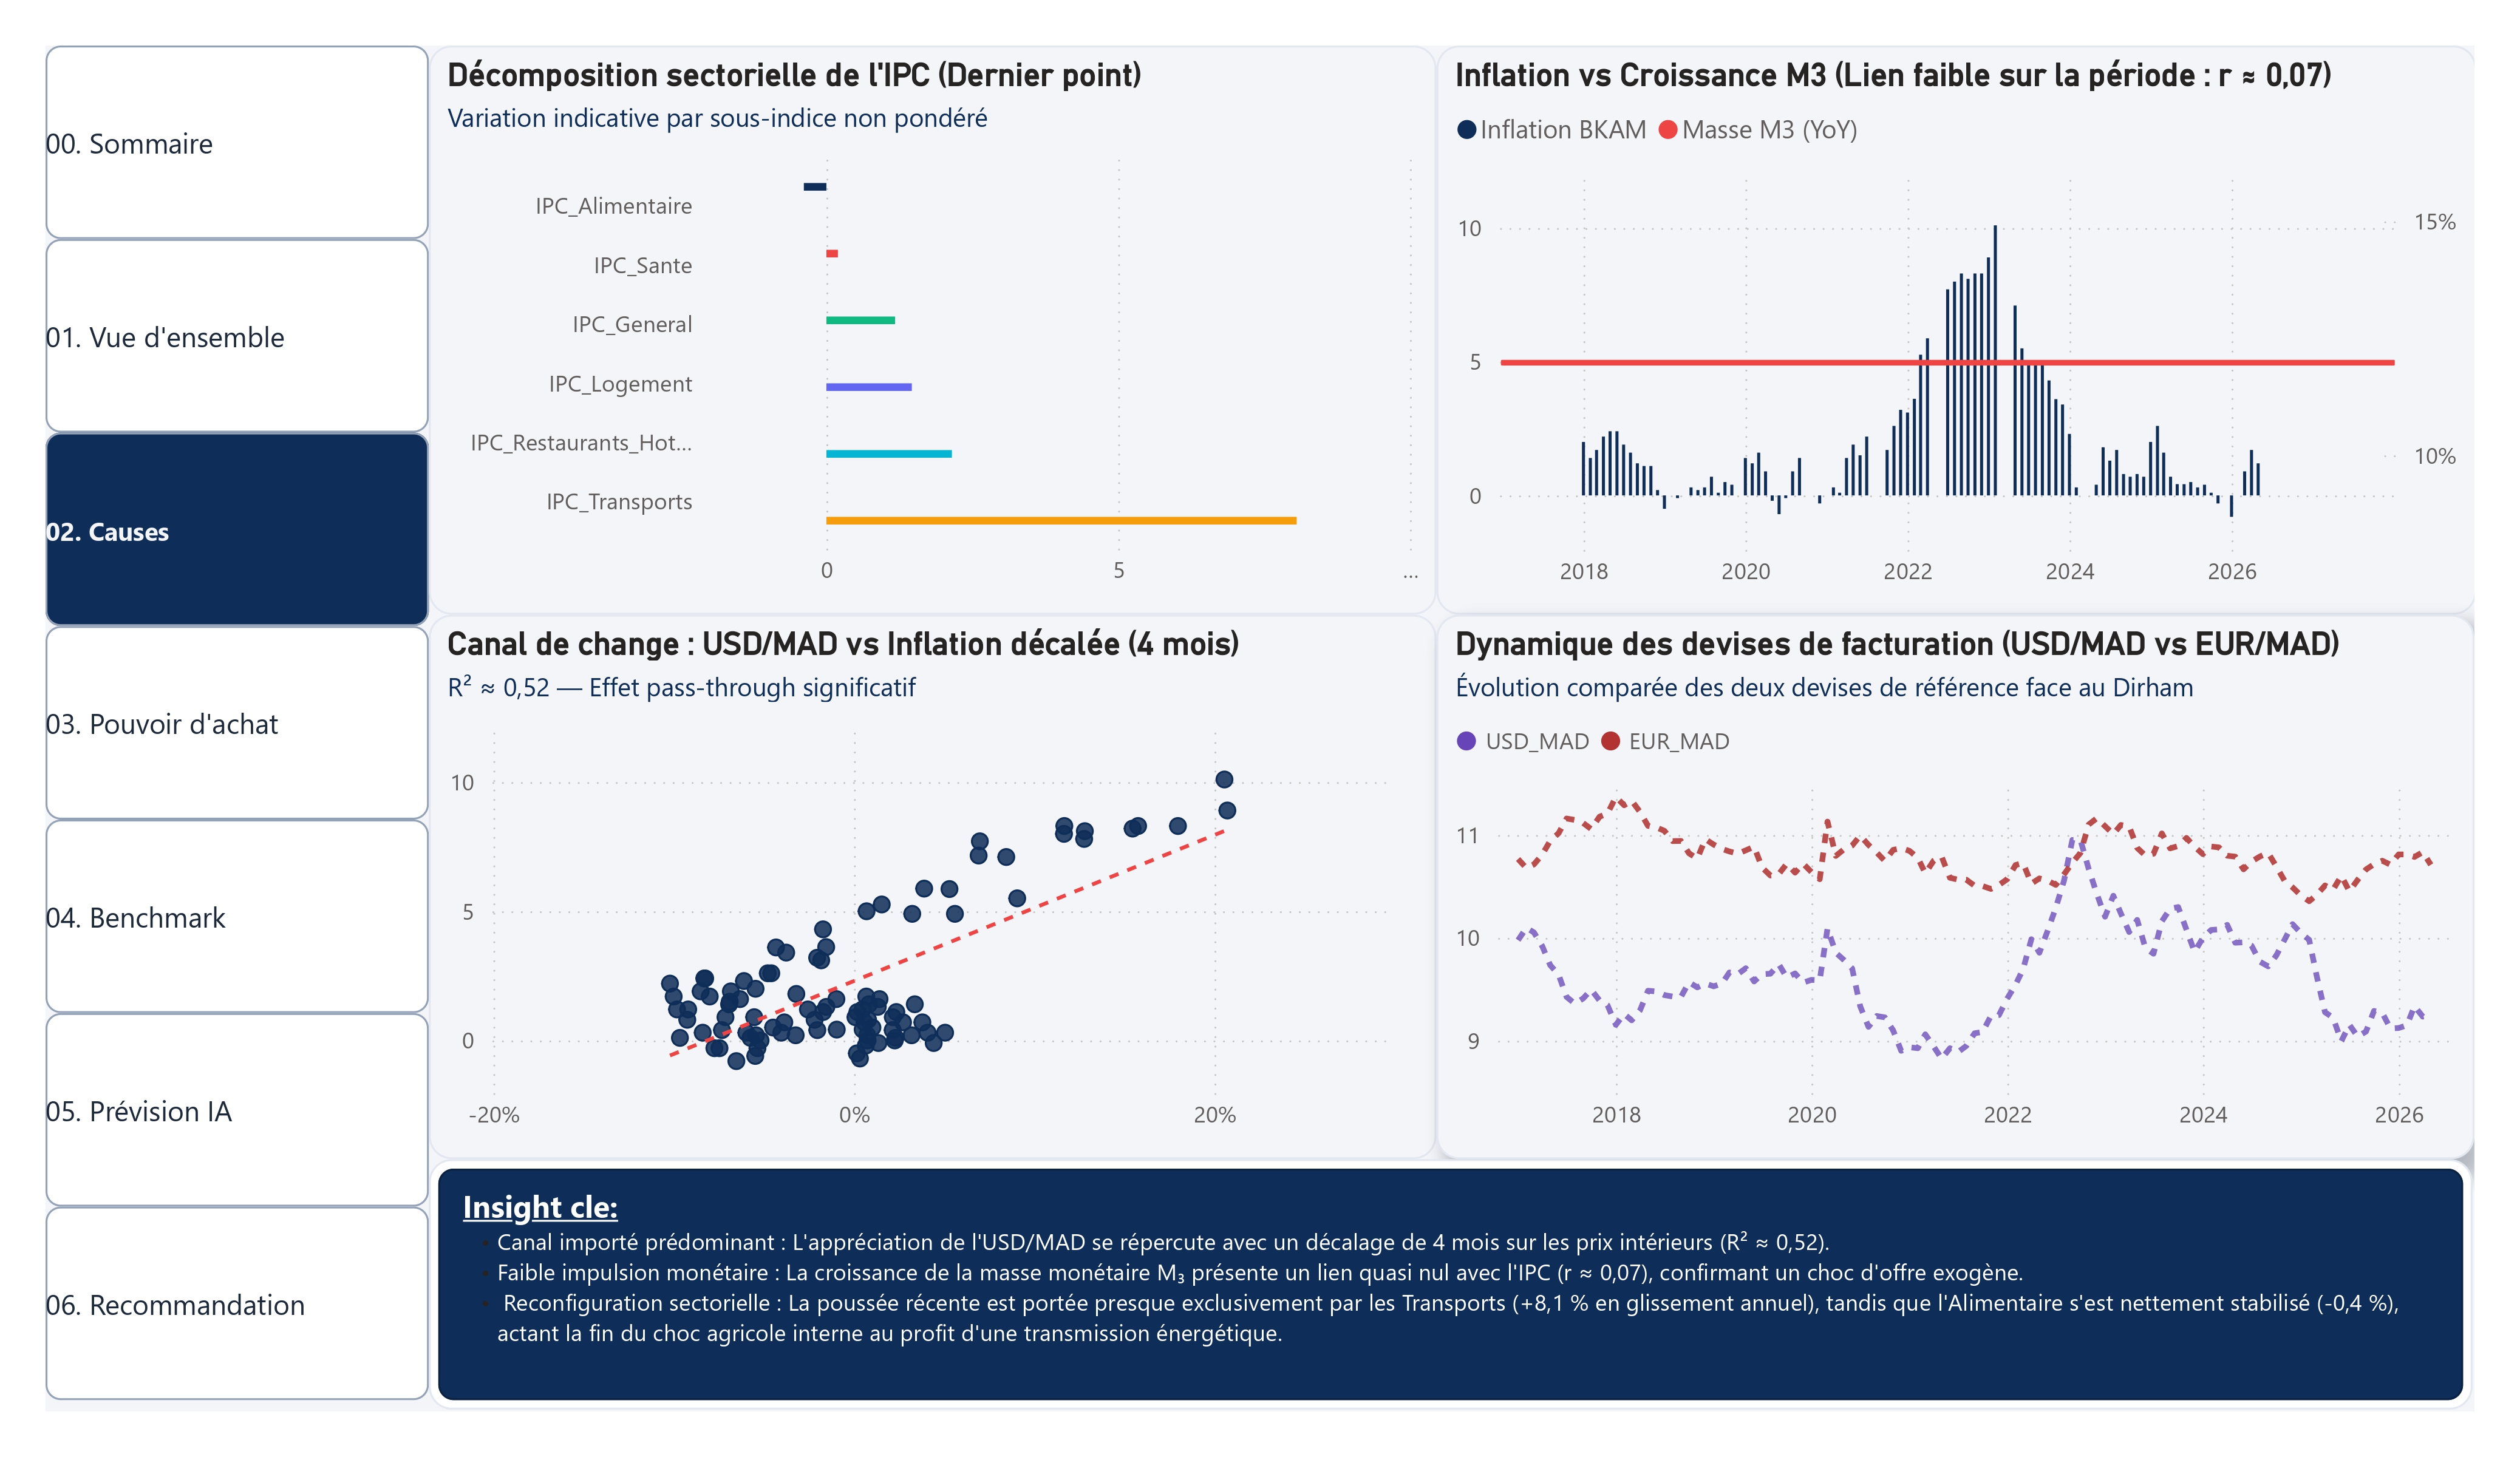

Layout of this report page (visuals, bound fields, positions):
{"tool":"powerbi","page":{"name":" 02. Causes","canvas":[1280,720],"ordinal":2},"visuals":[{"type":"pageNavigator","box":[0,0,201.9,719.2],"z":0},{"type":"clusteredBarChart","title":"Décomposition sectorielle de l''IPC (Dernier point)","fields":{"Category":["Fait_IPC_Secteurs.Secteur"],"Series":["Fait_IPC_Secteurs.Secteur"],"Y":["_Mesures.Variation_YoY_Secteur"]},"box":[201.9,0,530.8,300],"z":1000},{"type":"lineClusteredColumnComboChart","title":"Inflation vs Croissance M3 (Lien faible sur la période : r ≈ 0,07)","fields":{"Category":["Calendrier.Date"],"Y":["_Mesures.Inflation BKAM"],"Y2":["_Mesures.Masse M3 (YoY)"]},"box":[732.7,0,548.1,300],"z":2000},{"type":"scatterChart","title":"Canal de change : USD/MAD vs Inflation décalée (4 mois)","fields":{"Category":["Calendrier.Date"],"X":["_Mesures.USD_MAD_YoY"],"Y":["_Mesures.Inflation_dans_4_mois"]},"box":[201.9,300,530.8,286.5],"z":3000},{"type":"lineChart","title":"Dynamique des devises de facturation (USD/MAD vs EUR/MAD)","fields":{"Category":["Calendrier.Date"],"Y":["Avg(Fait_Inflation.USD_MAD)","Avg(Fait_Inflation.EUR_MAD)"]},"box":[733,300,547,287],"z":4000},{"type":"shape","box":[201.9,586.5,1076.9,132.7],"z":5000},{"type":"textbox","box":[215.4,596.2,1050,115.4],"z":6000}]}

Visuals, with their boxes on the page's 1280x720 design canvas (x1, y1, x2, y2). These are canvas units, not pixel positions in the 2520x1457 screenshot, which may show the page scaled, cropped or inside an application window:
pageNavigator: left=0, top=0, right=202, bottom=719
"Décomposition sectorielle de l''IPC (Dernier point)" clusteredBarChart: left=202, top=0, right=733, bottom=300
"Inflation vs Croissance M3 (Lien faible sur la période : r ≈ 0,07)" lineClusteredColumnComboChart: left=733, top=0, right=1281, bottom=300
"Canal de change : USD/MAD vs Inflation décalée (4 mois)" scatterChart: left=202, top=300, right=733, bottom=586
"Dynamique des devises de facturation (USD/MAD vs EUR/MAD)" lineChart: left=733, top=300, right=1280, bottom=587
shape: left=202, top=586, right=1279, bottom=719
textbox: left=215, top=596, right=1265, bottom=712
